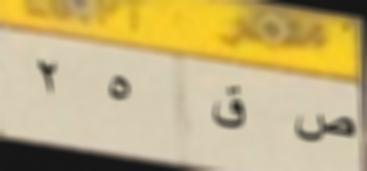2: (32, 54, 63, 96)
5: (100, 70, 135, 112)
qaaf: (209, 84, 248, 137)
saad: (293, 105, 356, 150)
